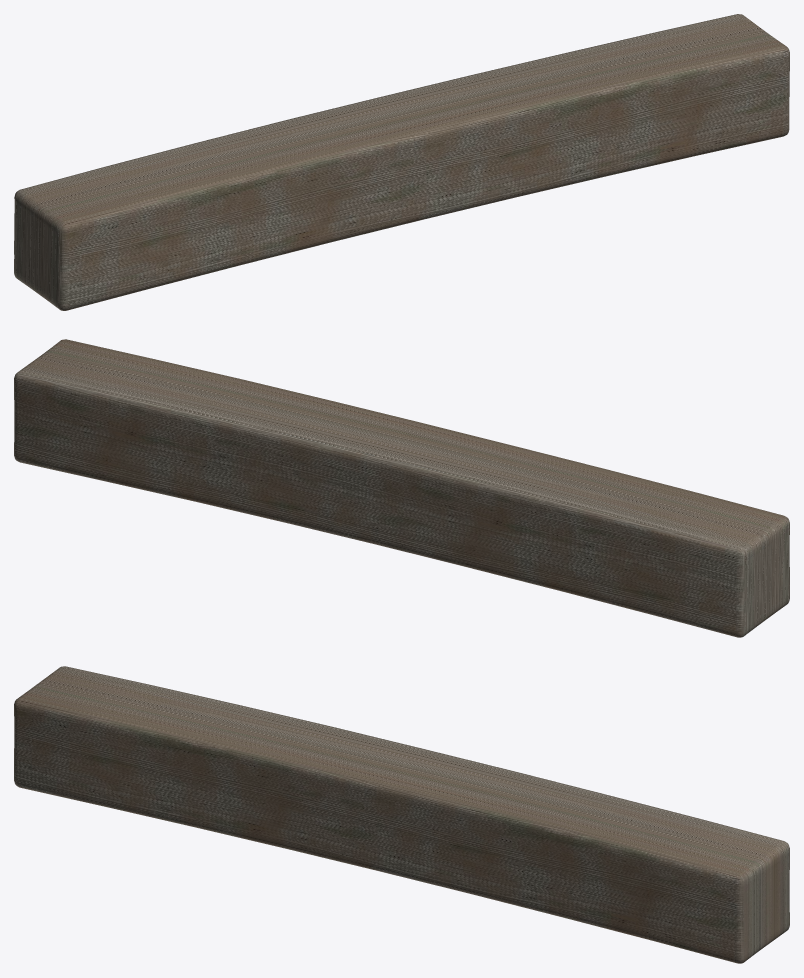
Rendered from beam_2m.glb.
The picture shows the model from 3 angles, top to bottom: view 1: azimuth 30°, elevation 25°; view 2: azimuth 150°, elevation 25°; view 3: azimuth 330°, elevation 25°; orthographic projection.
Parts seen in each view (by area): view 1: beam_2m; view 2: beam_2m; view 3: beam_2m.
Part boxes in pixels (x1,y1,x2,y2): beam_2m: (14,14,789,310); beam_2m: (14,339,789,637); beam_2m: (14,666,789,963).
Size of the model in its own units: 2 by 0.2477 by 0.2397.
1 material, 1 textured.
